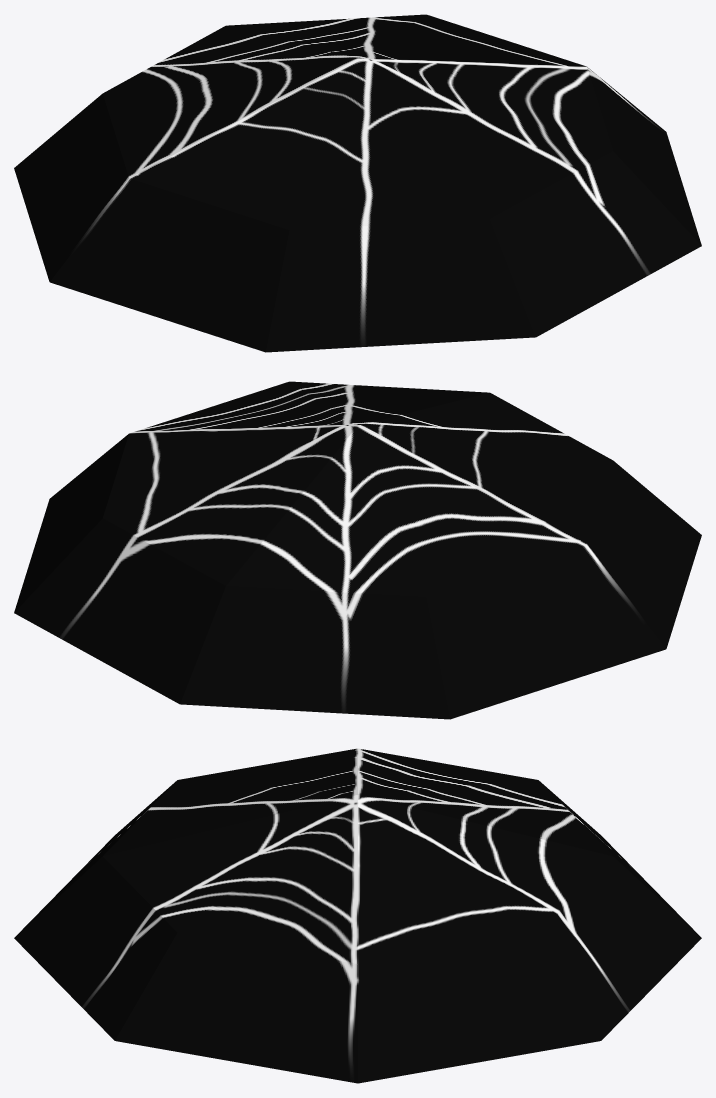
File: Spiderweb_02.fbx
3 views of the same model, one above another, from view 1: azimuth 30°, elevation 25°; view 2: azimuth 150°, elevation 25°; view 3: azimuth 270°, elevation 25° (orthographic). The views are drawn at different scales.
Parts seen in each view (by area): view 1: Spiderweb_02; view 2: Spiderweb_02; view 3: Spiderweb_02.
Part boxes in pixels (box(x1,y1,x2,y2)): Spiderweb_02: box(14, 14, 701, 352); Spiderweb_02: box(14, 381, 701, 719); Spiderweb_02: box(14, 748, 701, 1083).
Bounding box in the file's own units: 0.9708 × 0.2233 × 0.9708.
